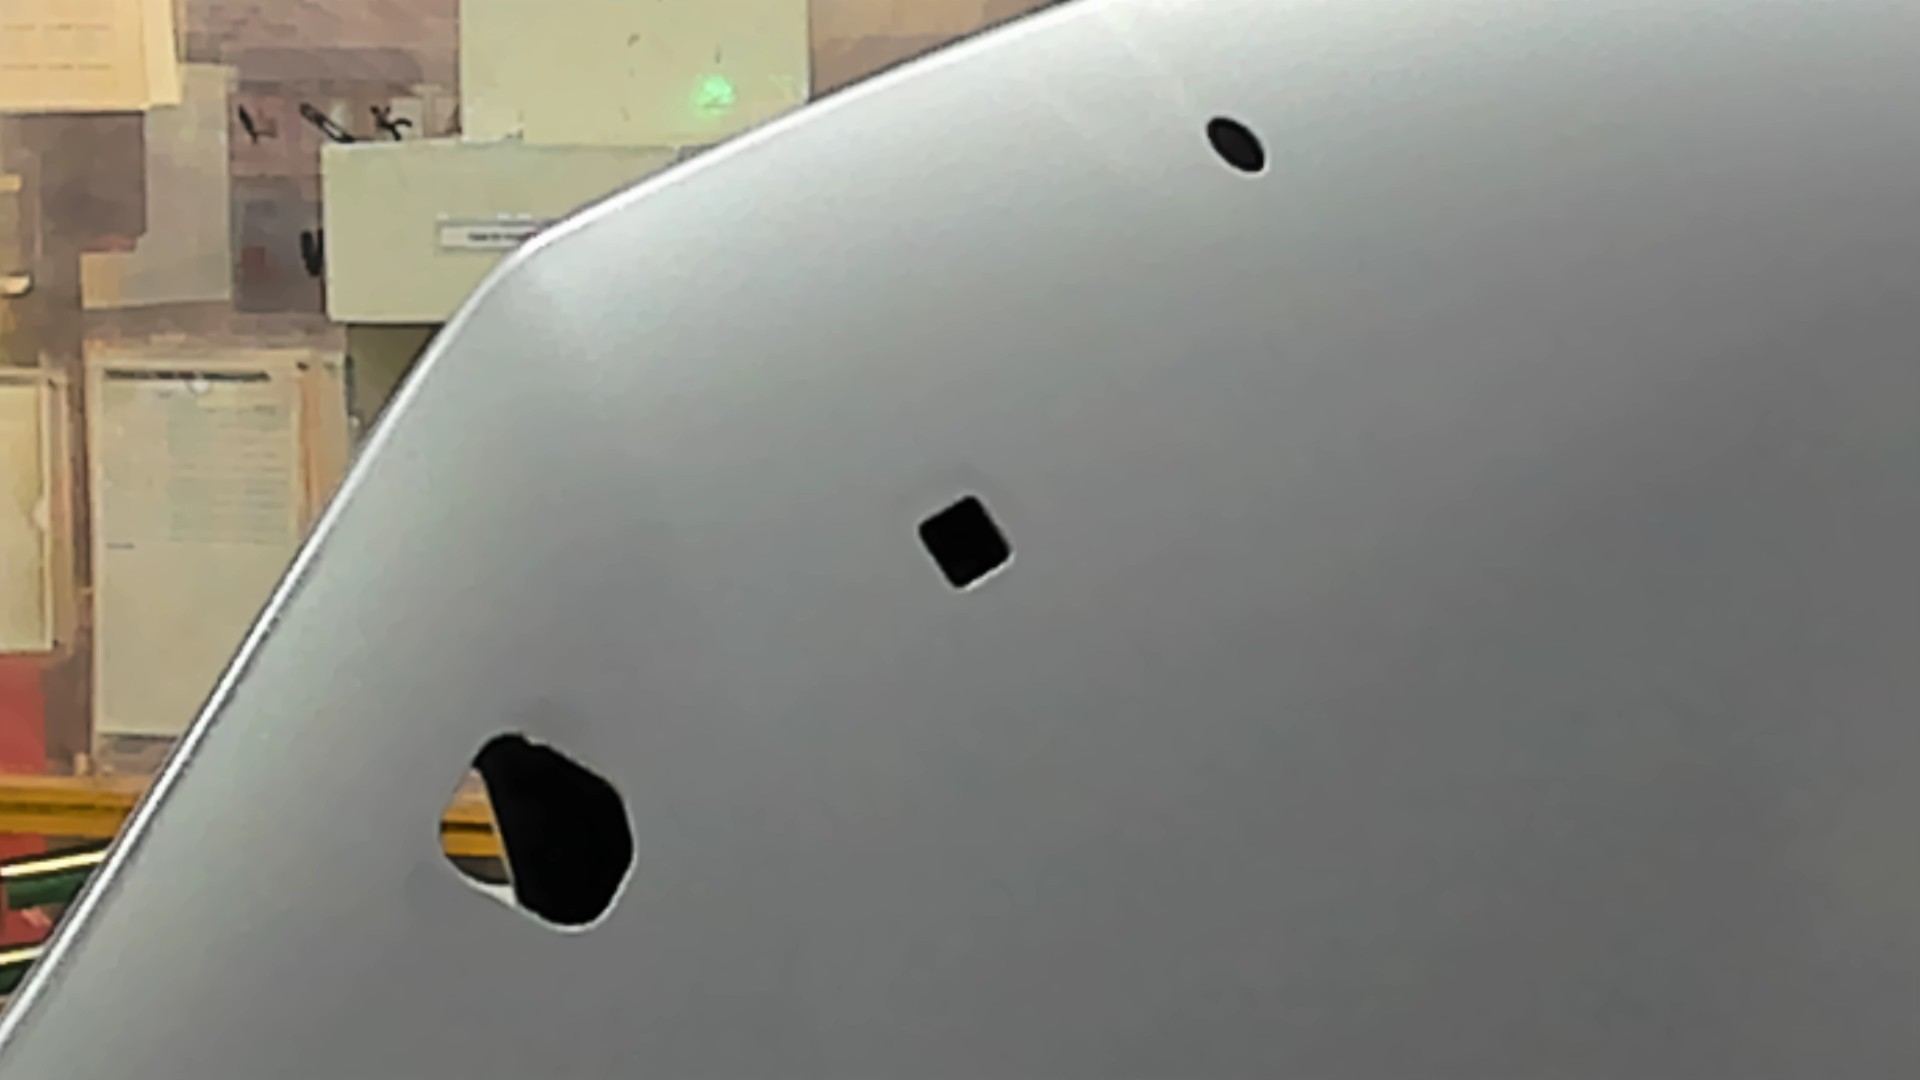chico: (1193, 103, 1302, 193)
grande: (398, 717, 670, 955)
mediano: (887, 481, 1036, 611)
